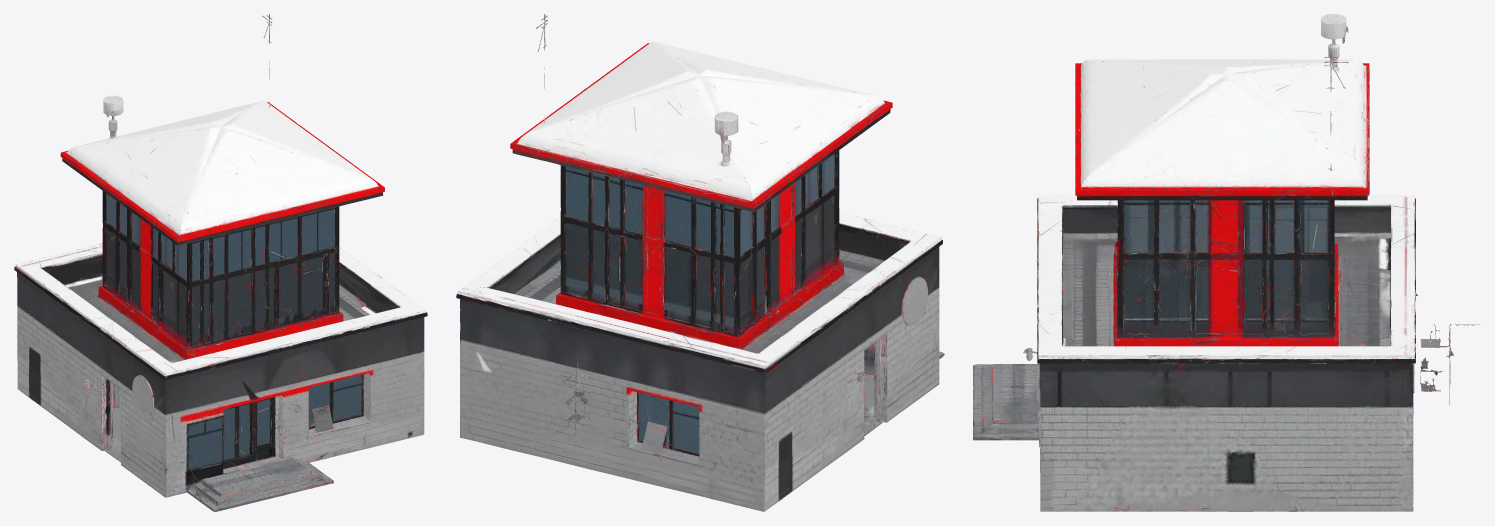
Rendered from rail_station_glacier.glb.
The picture shows the model from 3 angles, left to right: view 1: azimuth 30°, elevation 25°; view 2: azimuth 150°, elevation 25°; view 3: azimuth 270°, elevation 25°; orthographic projection. The views are drawn at different scales.
Size of the model in its own units: 1.46 by 1.79 by 1.89.
Materials: 1 (1 with a texture image).
